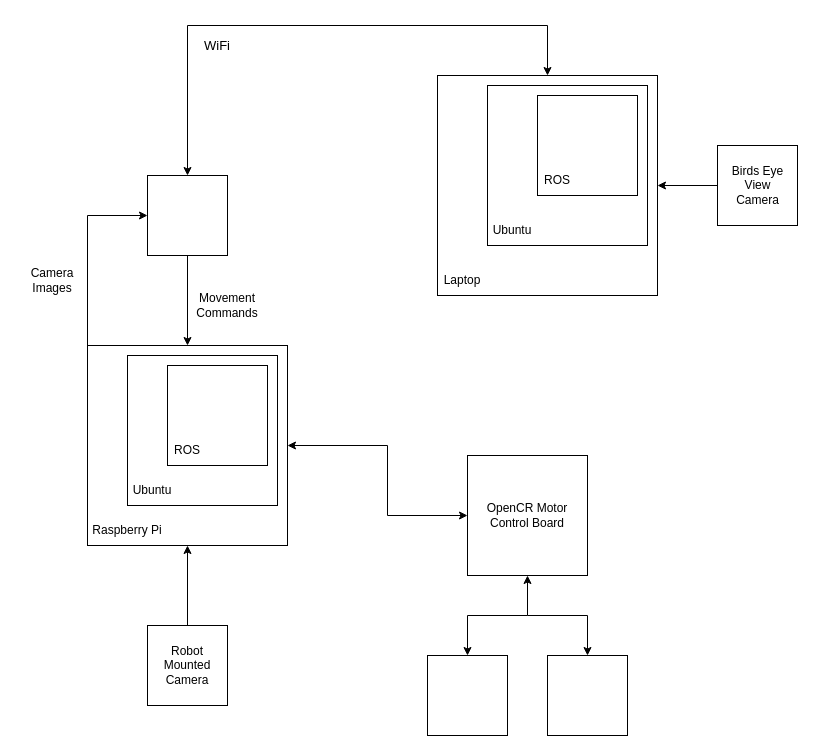
Some shapes in this 815 by 753 pixel diagram are drawn without their labels. The shapes that lost their labels are listed below. From the top down, each one's centre as x and y in pixels, then its label:
At point 187,215: "Topics Queue".
At point 467,695: "Motor 1 with encoder".
At point 587,695: "Motor 2 with encoder".
